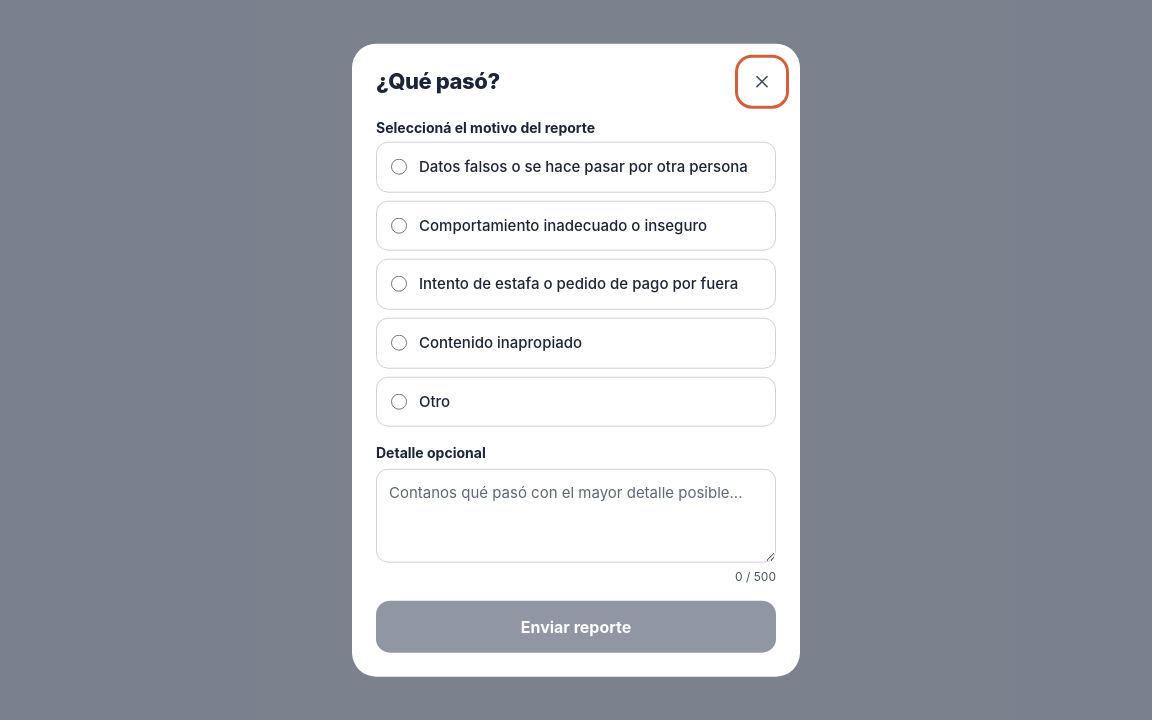
Scenario: HojaReportar › muestra advertencia del 911 al elegir comportamiento
Expected: the text "Si estás en peligro, llamá al 911" is not shown
Click the radio button labelled "Comportamiento inadecuado o inseguro": (399, 225) [391,217,407,233]
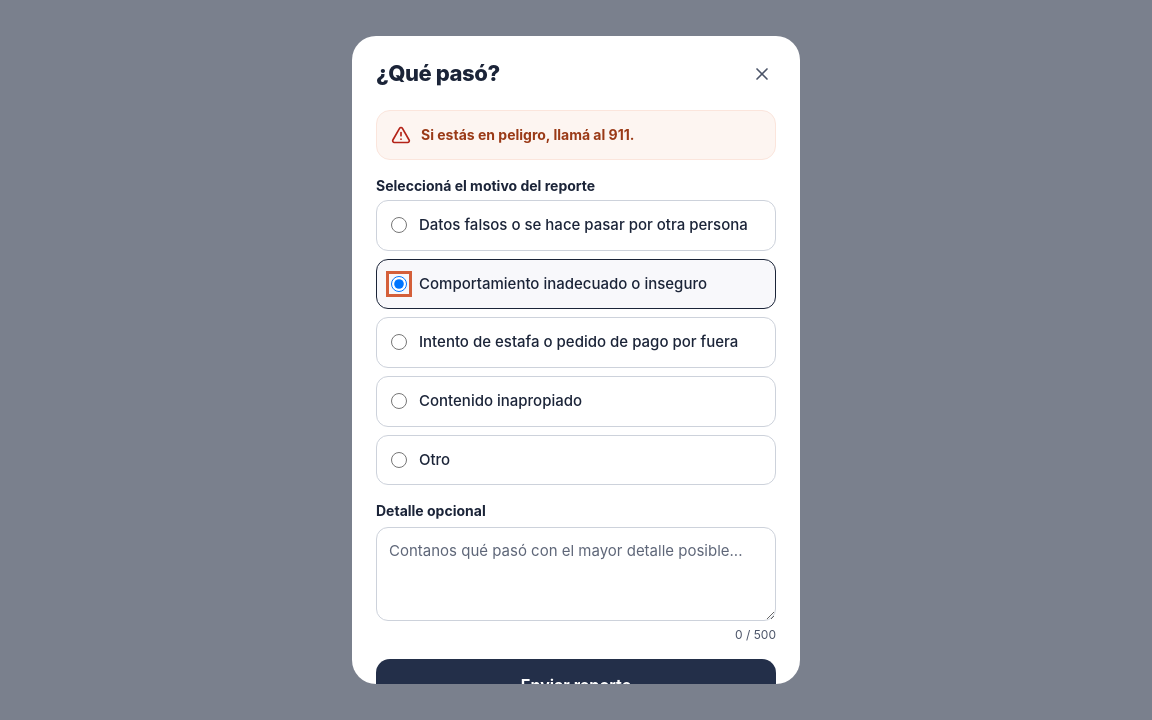
Expected: the text "Si estás en peligro, llamá al 911." is shown, [421,125,634,145]
